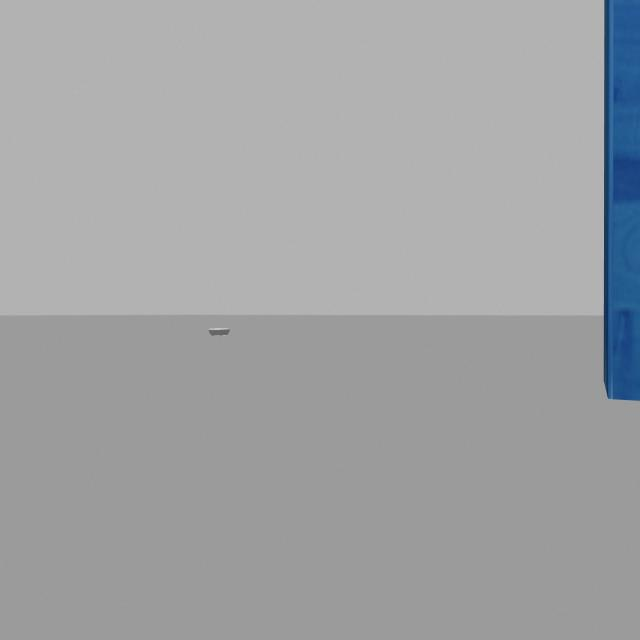bowl: (202, 321, 238, 345)
shelf: (596, 0, 640, 415)
